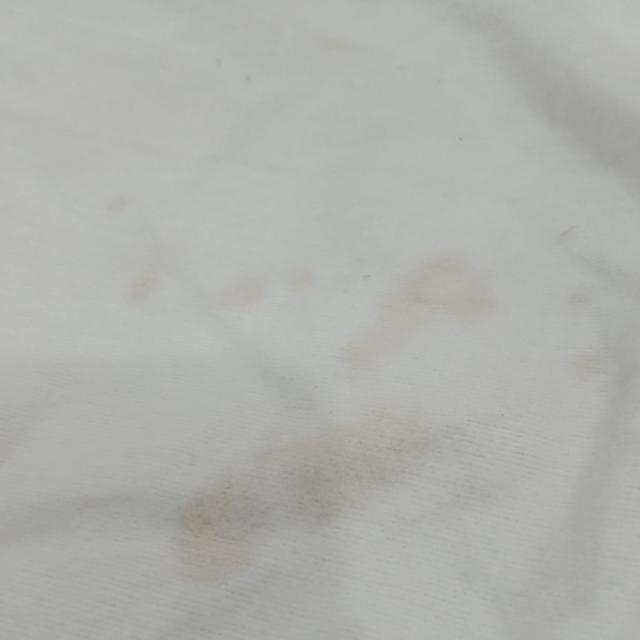stain: (156, 412, 446, 582), (331, 245, 507, 375), (215, 258, 322, 315), (114, 270, 166, 306), (97, 186, 144, 214)
